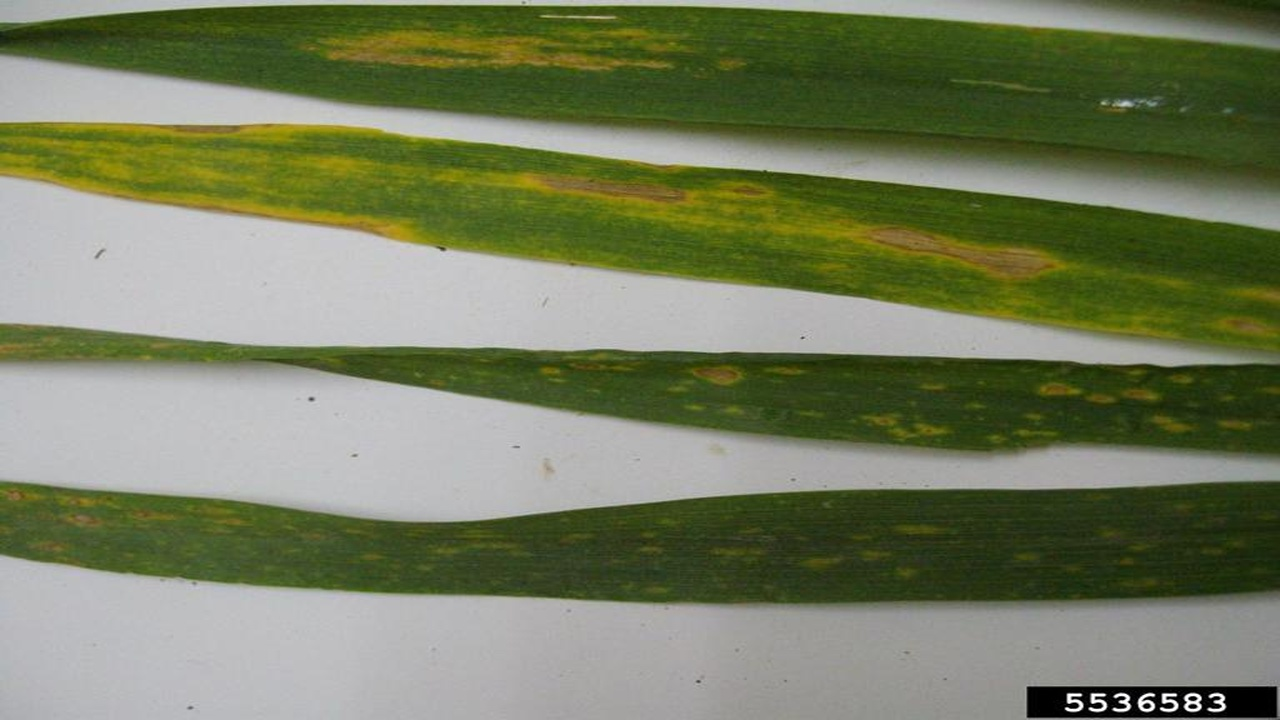tan_spot: (2, 123, 1280, 358), (2, 325, 1280, 458), (2, 479, 1280, 601), (8, 7, 1071, 133)
